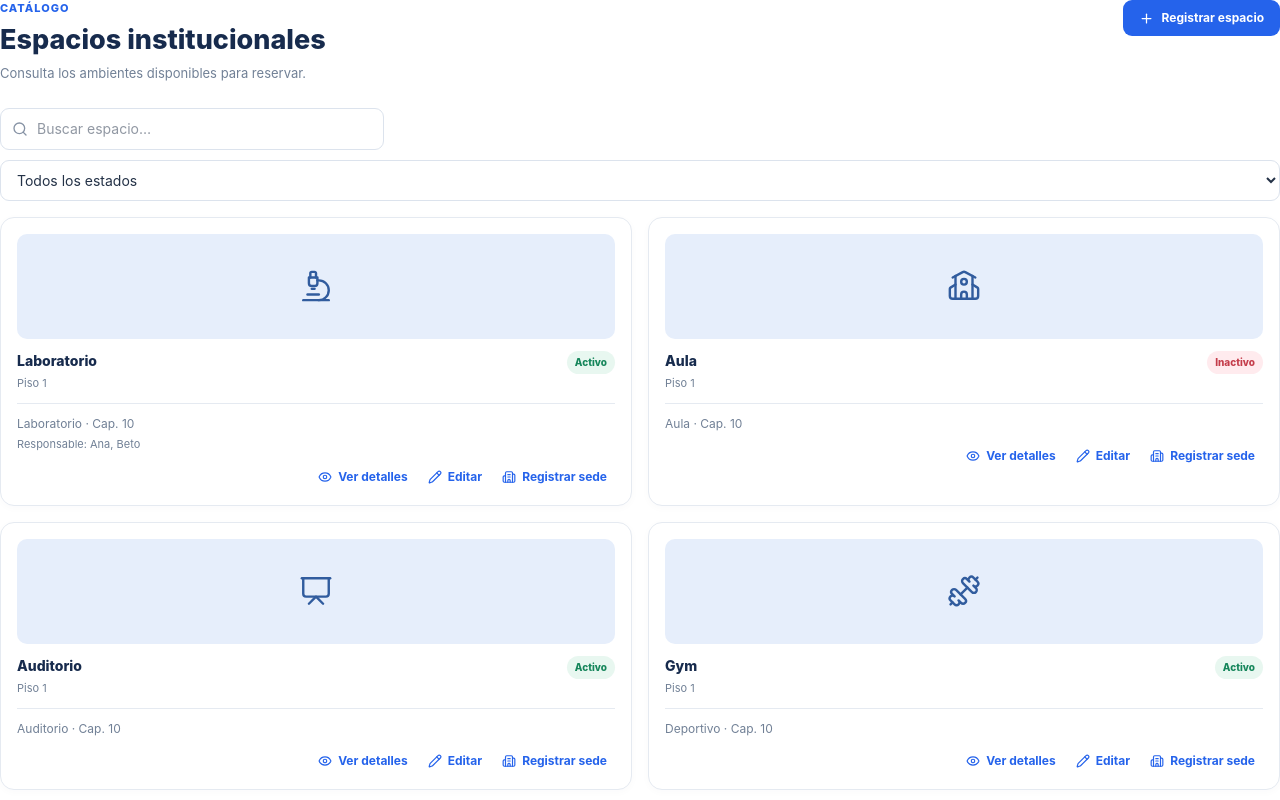
Test case: SpacesPage · crear y editar › fallback del error al guardar
Expected: the heading "Laboratorio" is shown, top-left (17, 351), bottom-right (97, 371)
Click the button "Registrar espacio": (1201, 18) top-left (1122, 0), bottom-right (1279, 36)
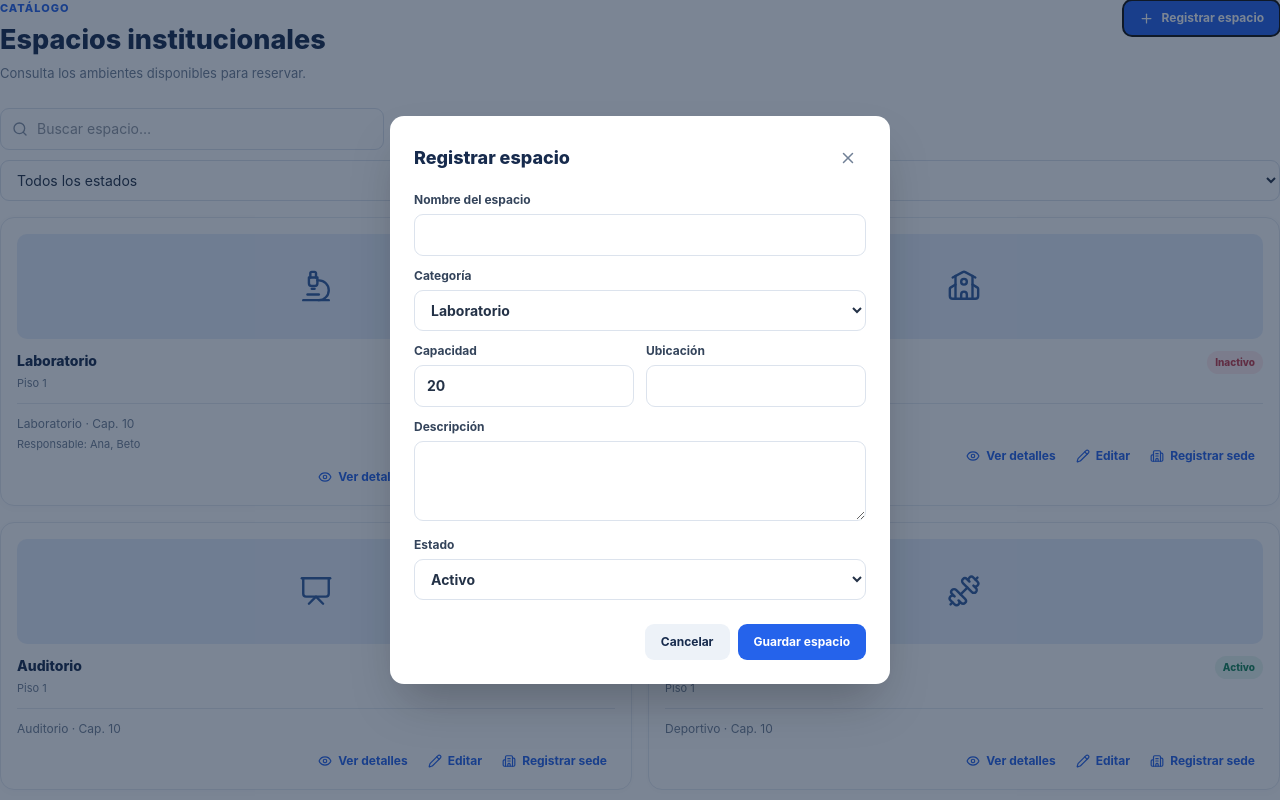
In the field labelled "Nombre del espacio": (640, 235) top-left (414, 214), bottom-right (866, 256), type "X"
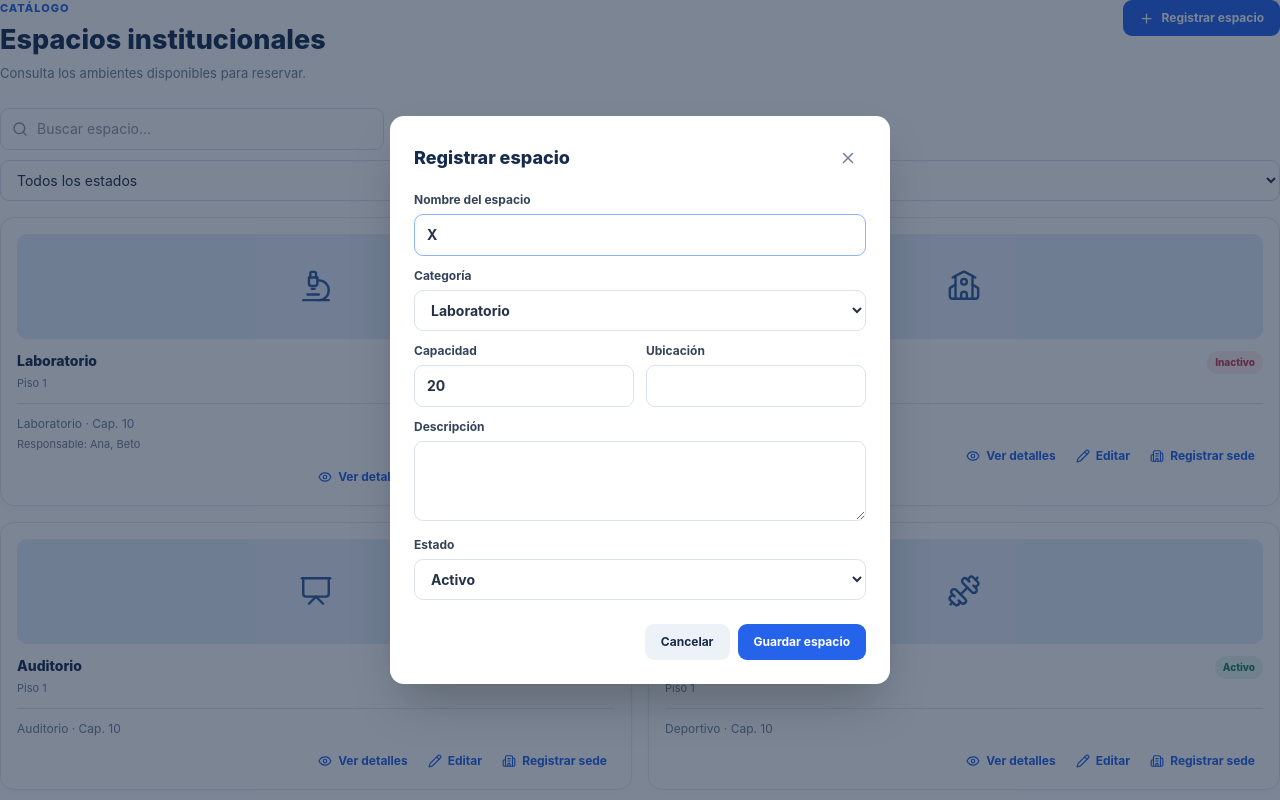
In the field labelled "Ubicación": (756, 386) top-left (646, 365), bottom-right (866, 407), type "Y"
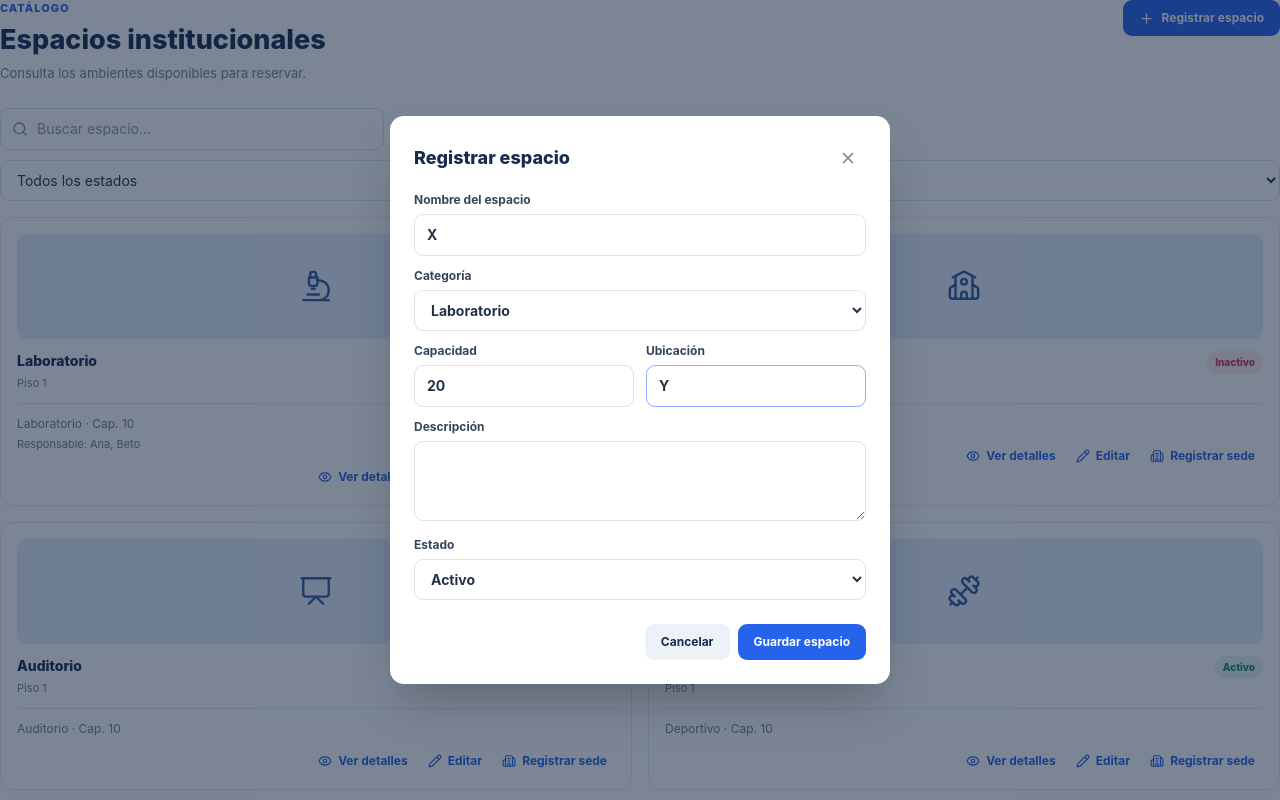
Click the button "Guardar espacio": (802, 642) top-left (738, 624), bottom-right (866, 660)
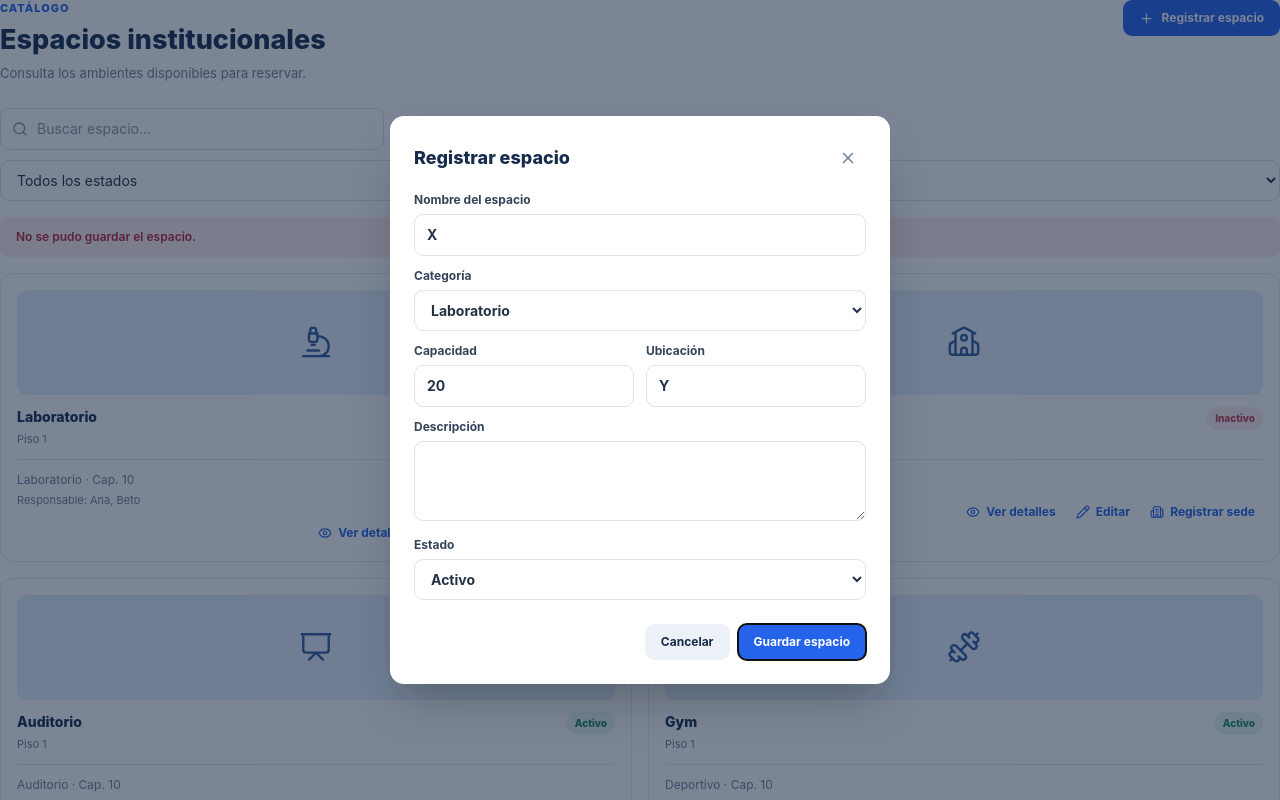
Now the message reads "No se pudo guardar el espacio.", box top-left (16, 229), bottom-right (196, 244)
